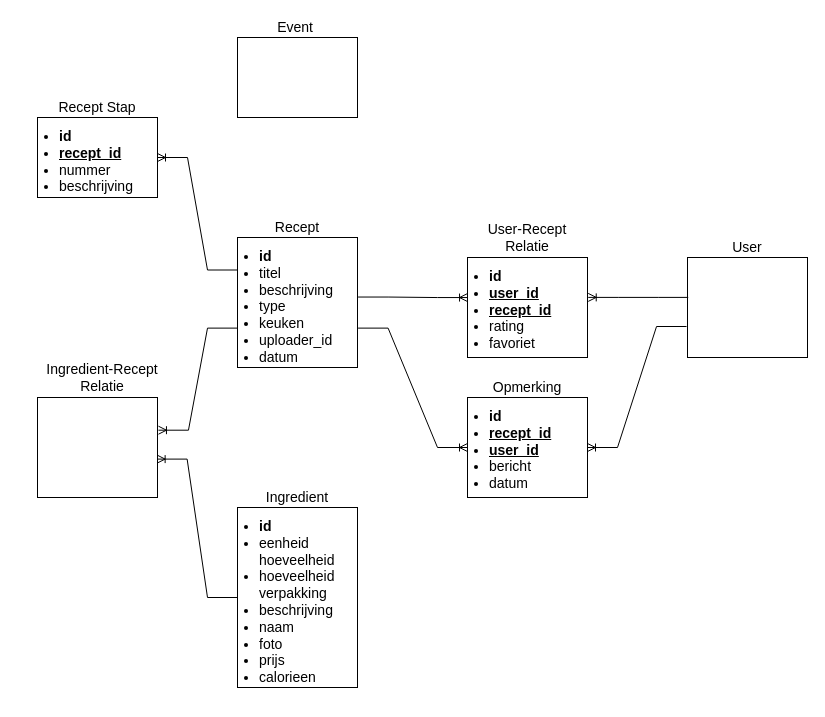
Image size: 825x717. Some labels were removed from this diagram. The centre of each missing label's shape, as x and y in pixels:
id ingredient_id recept_id hoeveelheid recept: the point at 97,447
id naam foto email wachtwoord: the point at 747,307
id titel datum beschrijving: the point at 297,77
